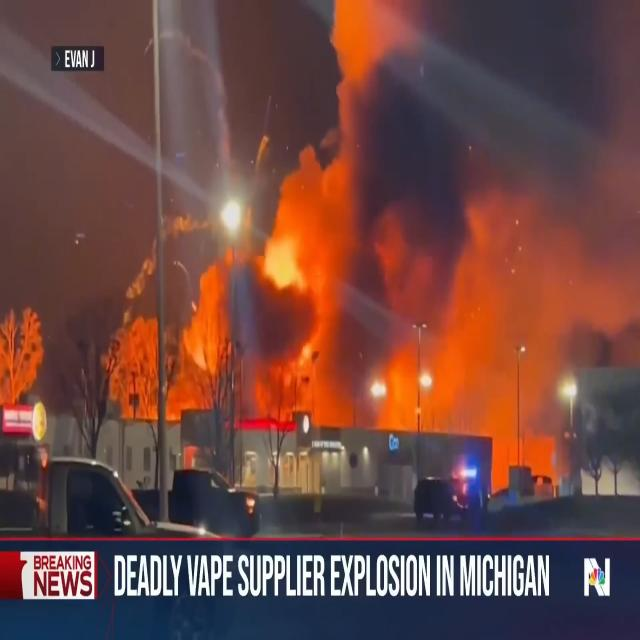fire: (157, 90, 572, 458)
